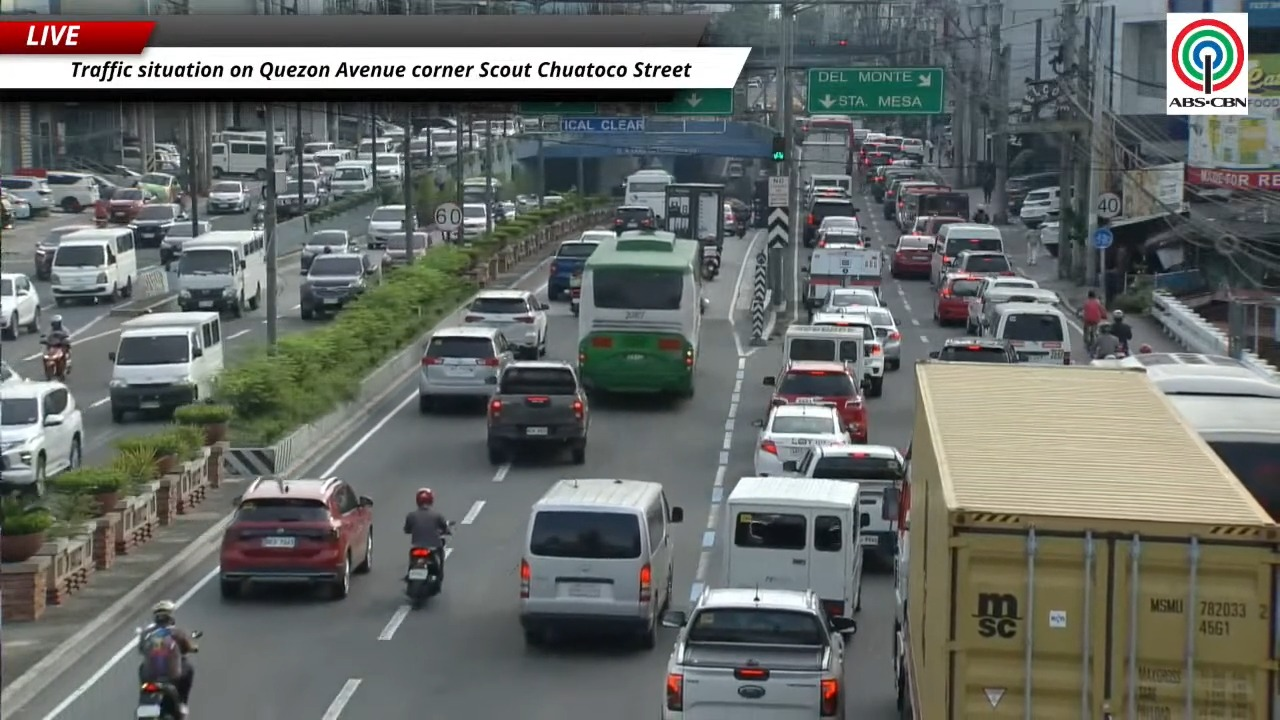bus: (1093, 352, 1279, 519), (578, 230, 705, 397), (624, 169, 674, 219), (209, 139, 266, 180), (803, 115, 857, 147), (274, 131, 290, 145)
car: (219, 477, 373, 599), (0, 381, 83, 495), (763, 361, 868, 442), (418, 325, 513, 413), (753, 403, 850, 475), (809, 306, 885, 396), (464, 289, 548, 358), (299, 251, 381, 319), (547, 230, 614, 300), (966, 275, 1038, 333), (34, 224, 95, 280), (877, 166, 935, 219), (883, 179, 941, 231), (804, 196, 858, 246), (300, 229, 359, 274), (0, 272, 40, 338), (129, 203, 188, 247), (933, 273, 981, 325), (929, 336, 1018, 363), (159, 220, 213, 264), (863, 307, 901, 369), (1006, 171, 1059, 215), (44, 171, 98, 212), (0, 175, 53, 214), (890, 234, 934, 278), (871, 165, 920, 204), (381, 231, 430, 268), (1018, 185, 1059, 229), (366, 204, 405, 249), (276, 180, 322, 217), (951, 250, 1015, 276), (107, 188, 154, 223), (206, 180, 253, 213), (819, 288, 881, 312), (287, 162, 327, 196), (136, 172, 181, 202), (612, 205, 656, 233), (913, 215, 967, 237), (0, 190, 31, 228), (816, 226, 867, 248), (1035, 213, 1059, 257), (461, 203, 489, 236), (818, 216, 860, 235), (864, 152, 891, 181), (722, 203, 745, 235), (0, 359, 25, 387), (900, 138, 924, 157), (498, 201, 518, 221), (543, 194, 564, 206)
motorcycle: (405, 537, 446, 609), (135, 682, 184, 719), (42, 343, 68, 381), (701, 245, 720, 280), (569, 273, 581, 316), (252, 202, 264, 229)
truck: (886, 361, 1279, 719), (661, 588, 856, 719), (486, 360, 589, 464), (801, 243, 882, 310), (664, 183, 725, 248), (799, 132, 852, 181)
